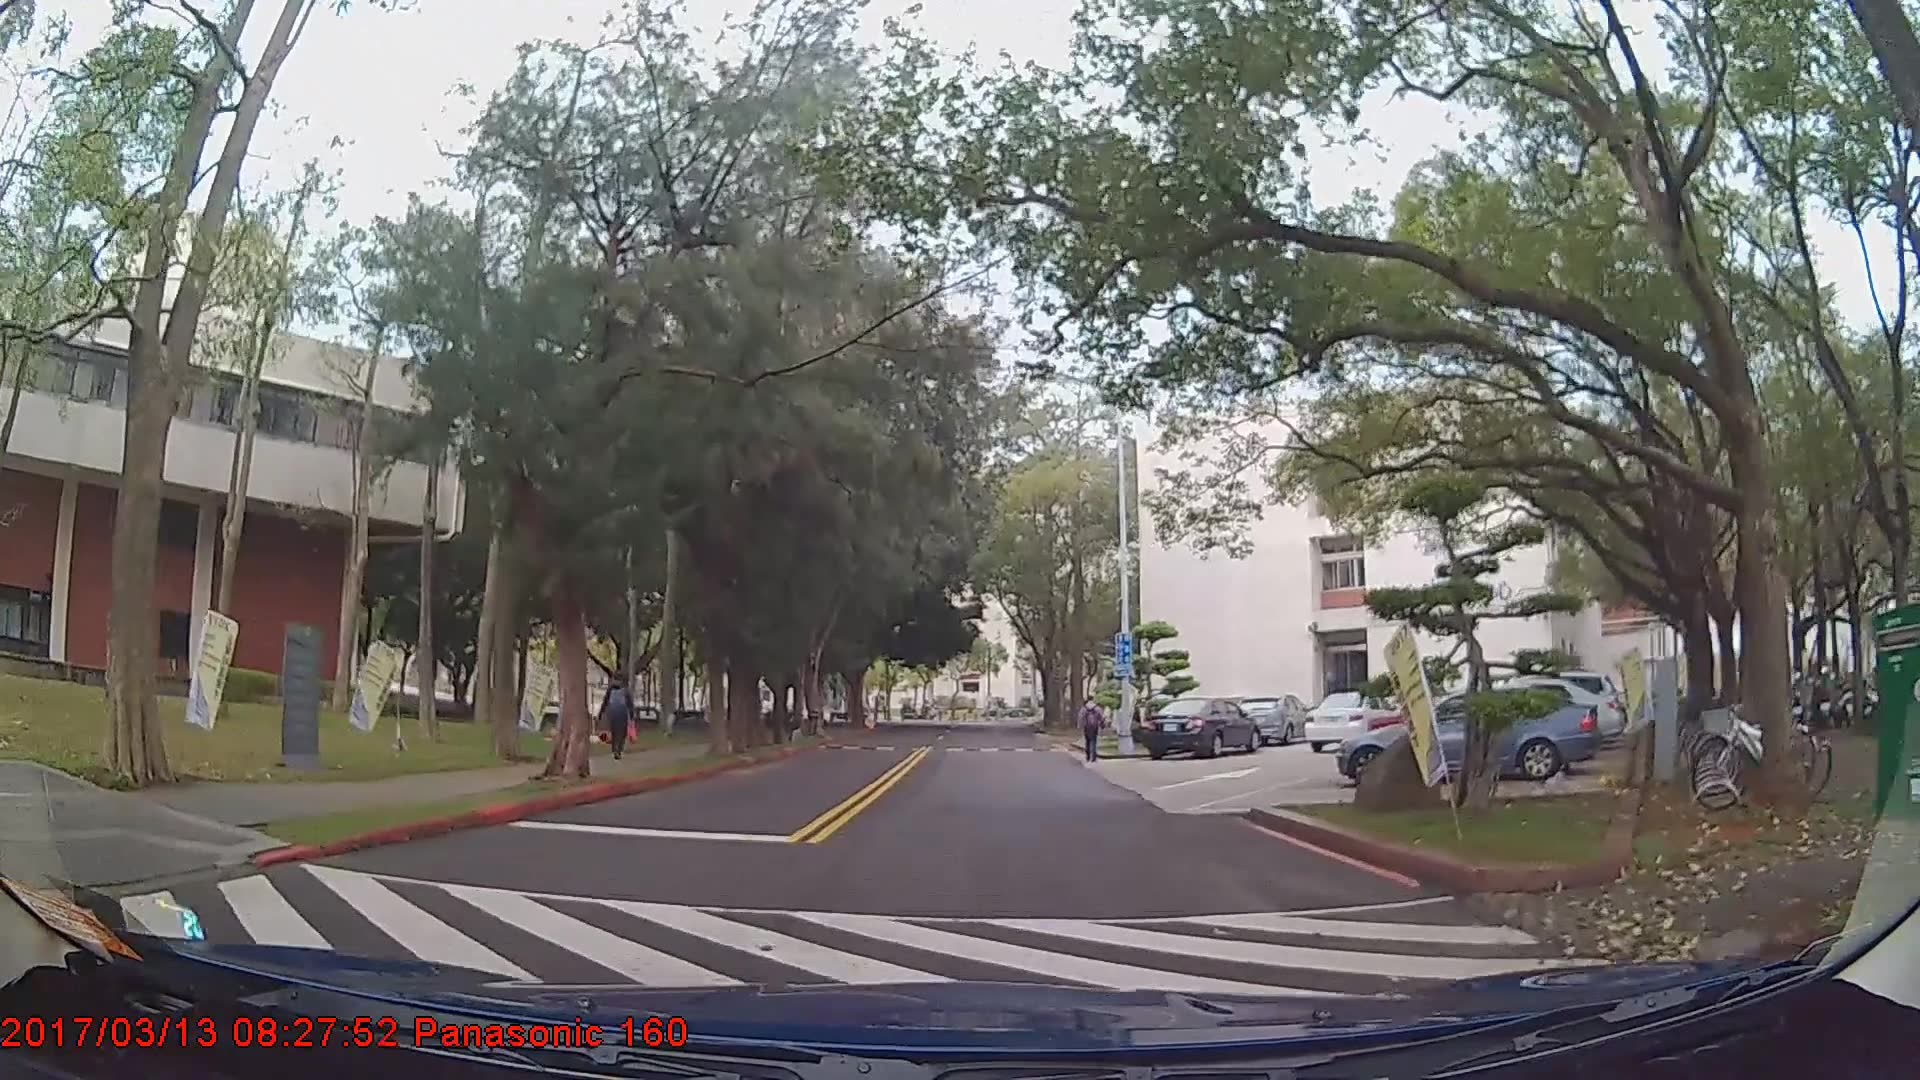pedestrian: (600, 672, 636, 762), (1079, 694, 1107, 764)
vehicle: (1336, 685, 1599, 789), (1138, 693, 1263, 757), (1307, 687, 1396, 750), (1236, 694, 1318, 745)
